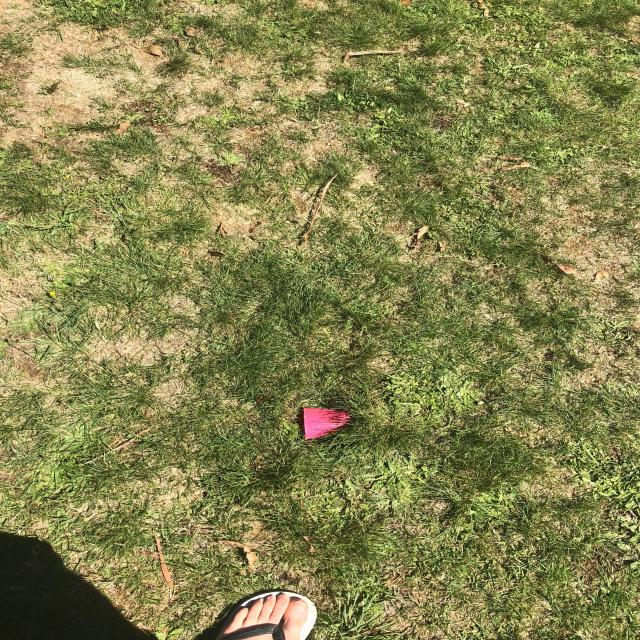Disposable plastic cup: (305, 408, 350, 439)
